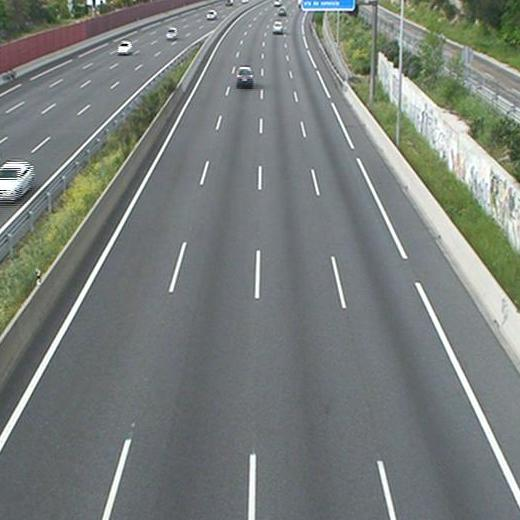car: (236, 67, 253, 82), (272, 21, 283, 34), (278, 6, 287, 14)
